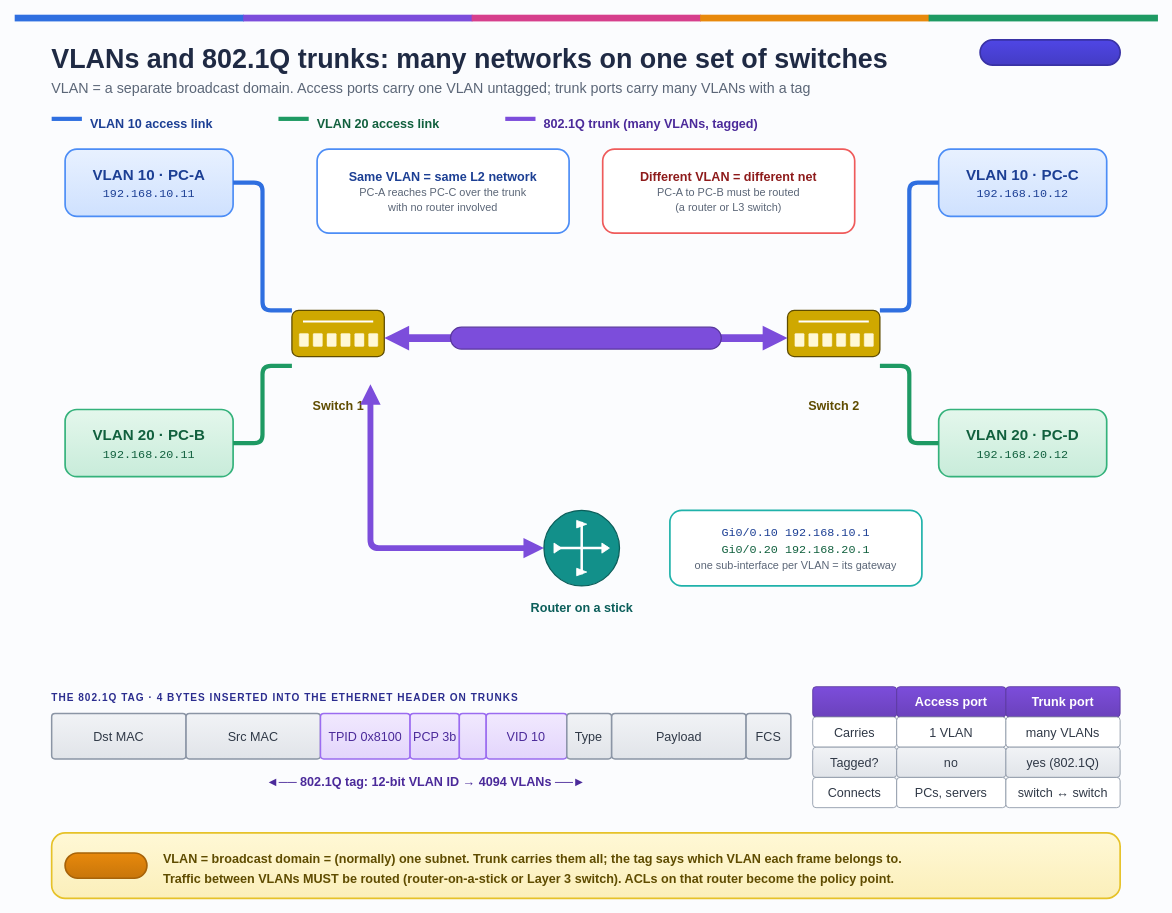
Image size: 1172x913. Some labels were removed from this diagram. Each missing label, with the box of its shape:
802.1Q TRUNK · VLAN 10 + 20 (tagged): (449, 326, 722, 349)
DEI: (458, 712, 487, 759)
REMEMBER: (64, 852, 147, 879)
STAGE 07 · VLANS: (979, 39, 1121, 66)
